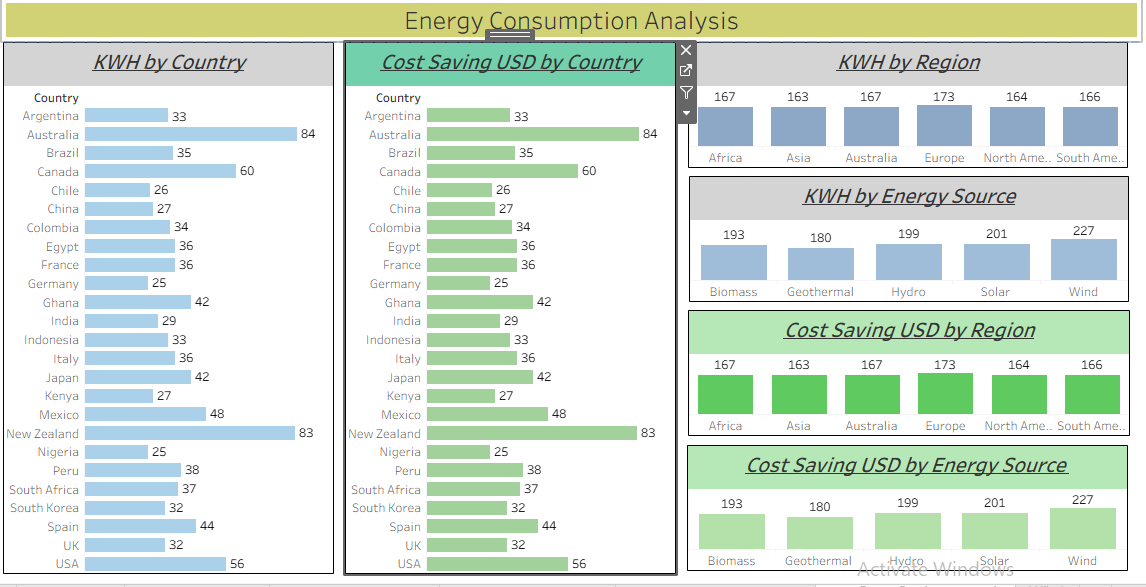

Layout of this report page (visuals, bound fields, positions):
{"tool":"tableau","page":{"name":"Energy Consumption Analysis","canvas":[1000,1000],"units":"permille","ordinal":0},"visuals":[{"type":"title","box":[6.9,13.5,986.1,70.9]},{"type":"worksheet","title":"KWH by Country","mark":"Automatic","rows":["Country"],"cols":["Monthly_Usage_kWh"],"box":[7.8,86.2,286.6,898.6]},{"type":"worksheet","title":"Cost Saving USD by Country","mark":"Automatic","rows":["Country"],"cols":["Cost_Savings_USD"],"box":[303.9,86.2,286.6,898.6]},{"type":"worksheet","title":"KWH by Region","mark":"Automatic","rows":["Monthly_Usage_kWh"],"cols":["Region"],"box":[600.9,86.2,380.9,212.8]},{"type":"worksheet","title":"KWH by Energy Source","mark":"Automatic","rows":["Monthly_Usage_kWh"],"cols":["Energy_Source"],"box":[601.7,312.5,380.9,212.8]},{"type":"worksheet","title":"Cost Saving USD by Region","mark":"Automatic","rows":["Cost_Savings_USD"],"cols":["Region"],"box":[600.9,538.9,382.7,212.8]},{"type":"worksheet","title":"Cost Saving USD by Energy Source ","mark":"Automatic","rows":["Cost_Savings_USD"],"cols":["Energy_Source"],"box":[600,766.9,381.8,212.8]}]}

Visuals, with their boxes on the dashboard's canvas, which has no fixed pixel size, in thousandths of its width and height (x1, y1, x2, y2). These are canvas units, not pixel positions in the 1146x587 screenshot, which may show the page scaled, cropped or inside an application window:
title: x1=7 y1=14 x2=993 y2=84
"KWH by Country" worksheet: x1=8 y1=86 x2=294 y2=985
"Cost Saving USD by Country" worksheet: x1=304 y1=86 x2=590 y2=985
"KWH by Region" worksheet: x1=601 y1=86 x2=982 y2=299
"KWH by Energy Source" worksheet: x1=602 y1=312 x2=983 y2=525
"Cost Saving USD by Region" worksheet: x1=601 y1=539 x2=984 y2=752
"Cost Saving USD by Energy Source " worksheet: x1=600 y1=767 x2=982 y2=980
